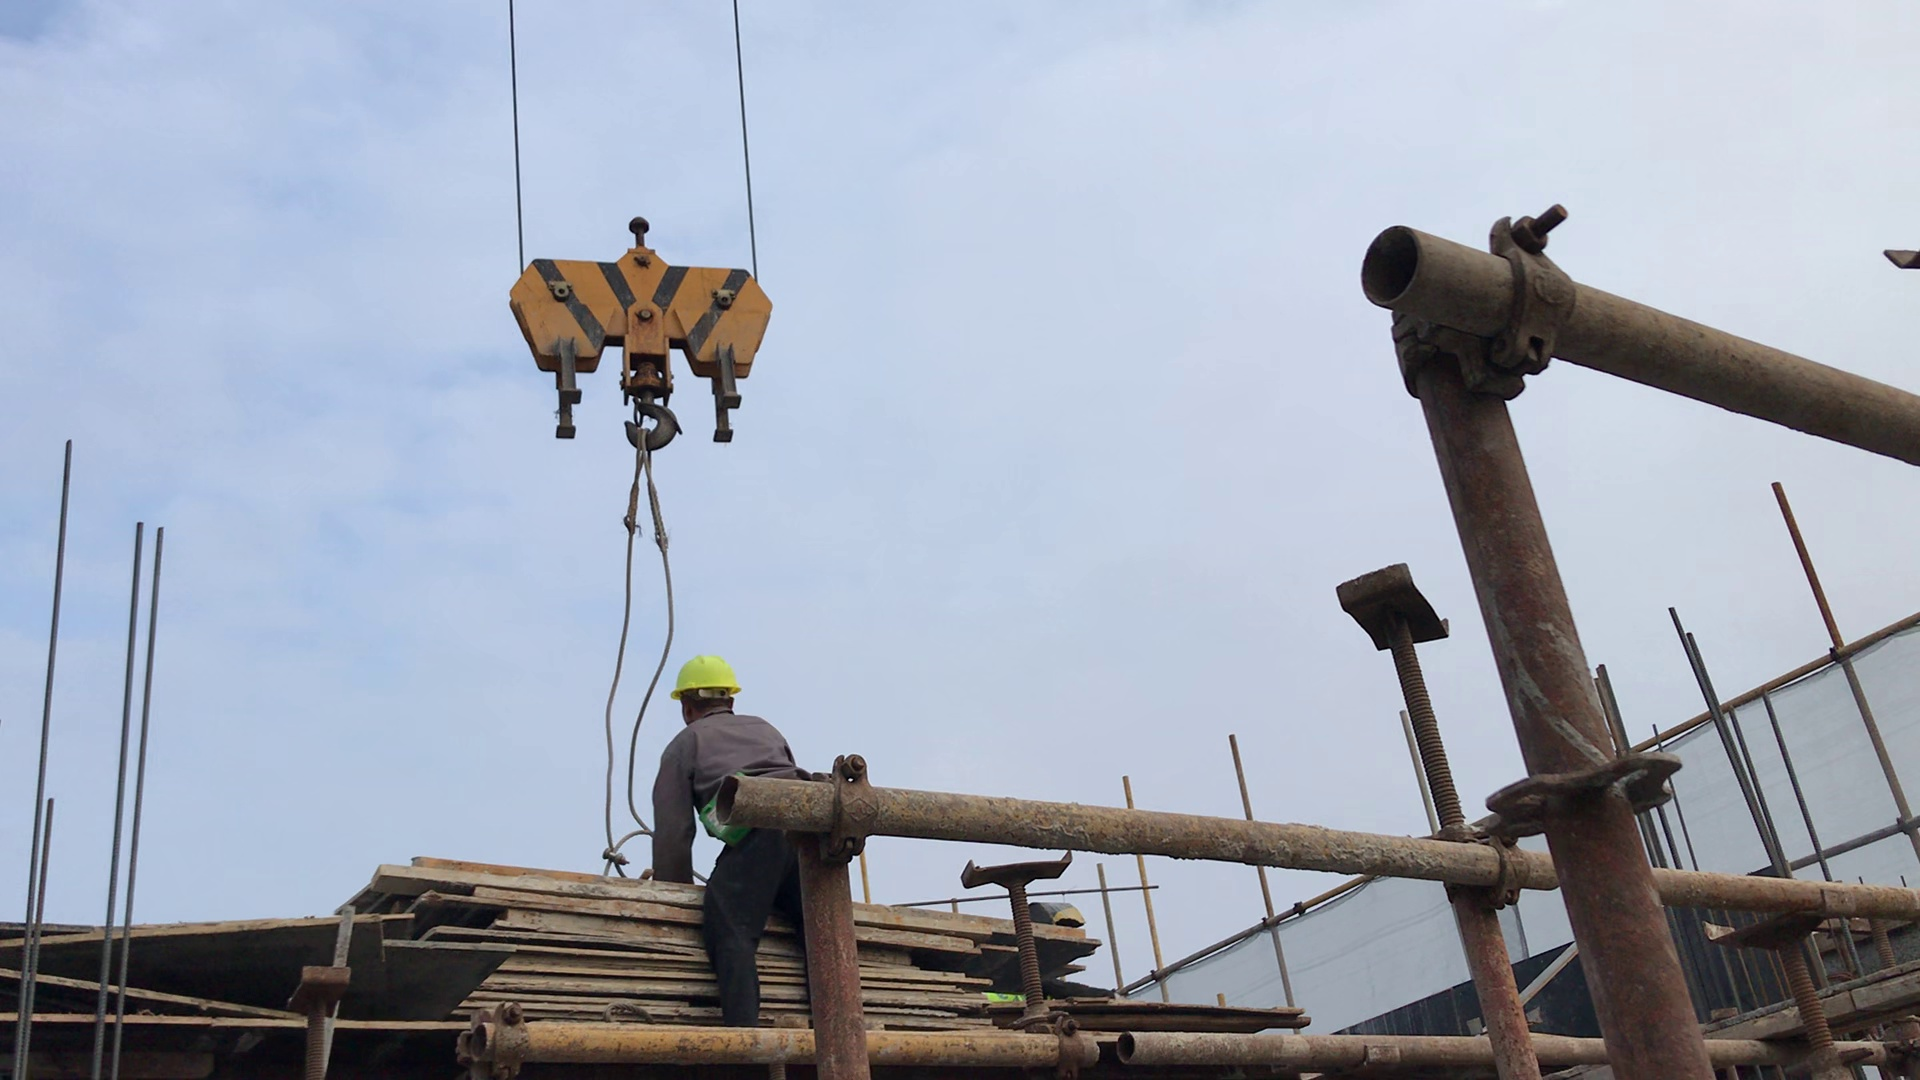board: (336, 850, 704, 1028)
helmet: (664, 654, 751, 698)
hook: (510, 212, 776, 454)
person: (638, 652, 818, 1028)
